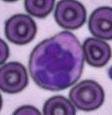N: (28, 32, 84, 91)
